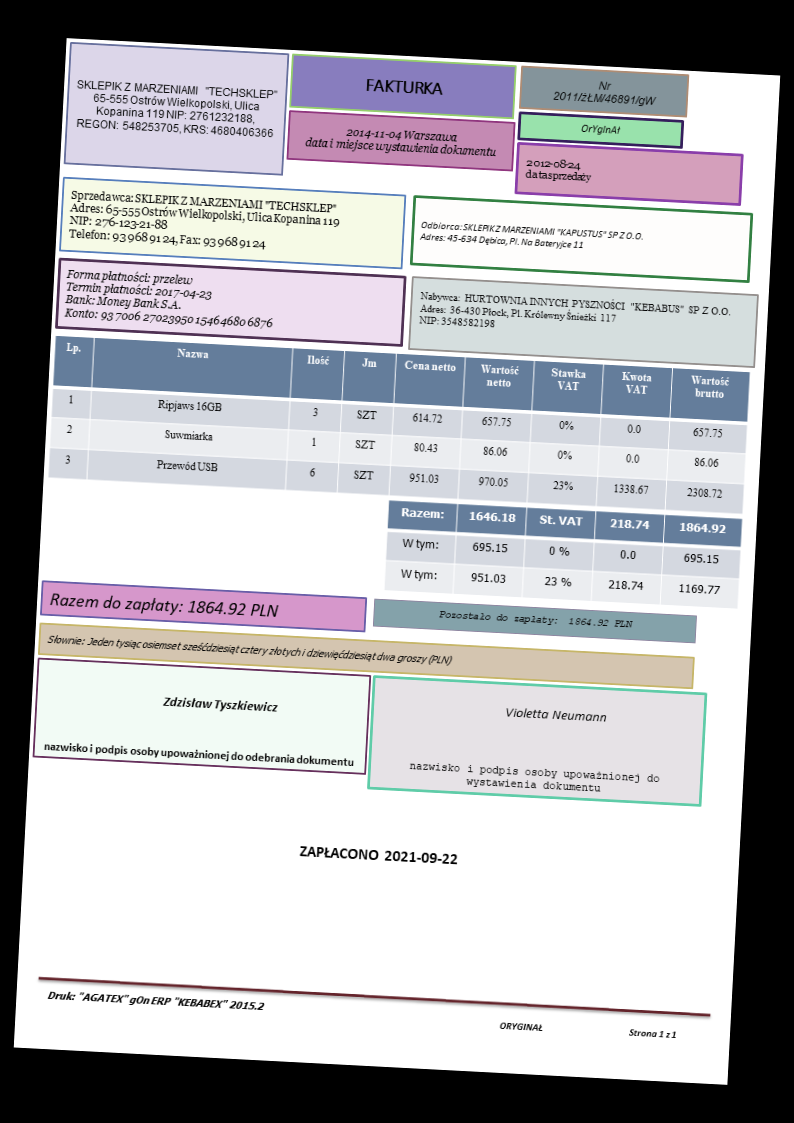Table: (45, 333, 750, 515), (382, 499, 743, 610)
TextBox: (65, 184, 344, 257), (415, 288, 732, 345), (44, 631, 454, 669), (61, 264, 279, 333), (71, 75, 279, 142), (405, 757, 665, 799), (39, 737, 357, 770), (416, 215, 643, 255), (45, 589, 280, 624), (302, 123, 500, 162), (43, 985, 269, 1016), (434, 606, 635, 630), (494, 1017, 681, 1042), (296, 841, 462, 868), (549, 74, 660, 111), (160, 690, 280, 716), (520, 154, 594, 187), (501, 703, 607, 726), (363, 75, 447, 99), (578, 121, 624, 138)
